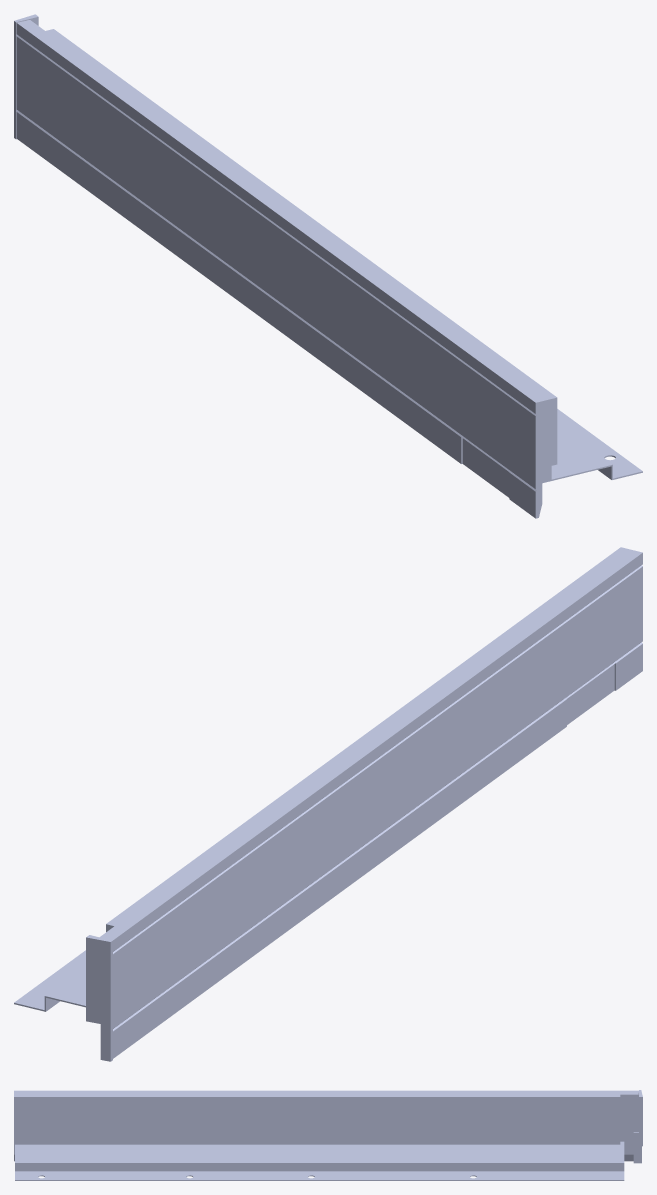
The model's file is lg-kava-N550-p.glb.
3 renders of one model, top to bottom at view 1: azimuth 30°, elevation 25°; view 2: azimuth 150°, elevation 25°; view 3: azimuth 270°, elevation 25°, orthographic. The views are drawn at different scales.
Parts seen in each view (by area): view 1: 44071657; view 2: 44071657; view 3: 44071657.
Boxes of the visible parts, x1=… form: 44071657: x1=14, y1=14, x2=642, y2=518; 44071657: x1=14, y1=547, x2=642, y2=1061; 44071657: x1=14, y1=1090, x2=642, y2=1180.
Bounding box in the file's own units: 0.0653 × 0.0672 × 0.5435.
